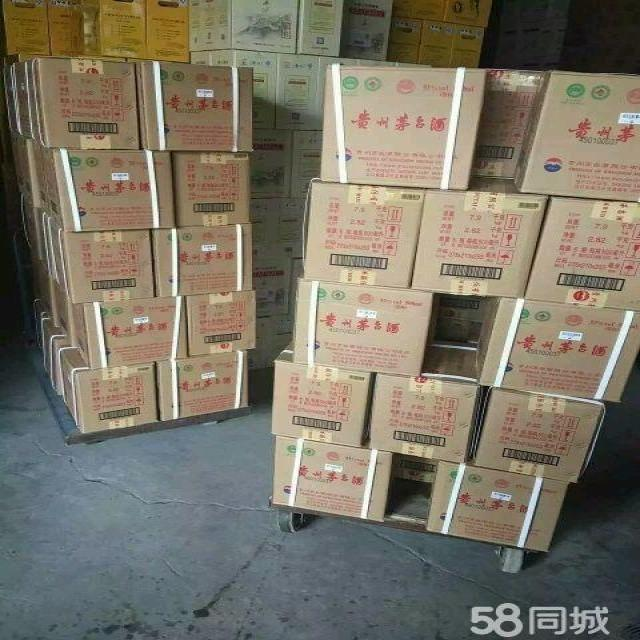box: (321, 64, 488, 190), (476, 296, 640, 403), (411, 176, 549, 299), (512, 71, 640, 202), (293, 274, 441, 376), (425, 449, 569, 552), (368, 341, 483, 464), (303, 180, 425, 289), (527, 196, 640, 311), (473, 386, 605, 484), (33, 142, 175, 233), (13, 58, 139, 149), (271, 340, 376, 446), (133, 61, 253, 153), (37, 209, 153, 304), (273, 435, 395, 522), (57, 343, 157, 433), (73, 296, 188, 370), (472, 69, 545, 179), (152, 225, 255, 297), (156, 350, 249, 421), (169, 152, 251, 226), (189, 0, 300, 53), (209, 49, 277, 128), (185, 291, 256, 356), (81, 0, 147, 59), (275, 52, 320, 130), (341, 0, 393, 60), (249, 128, 293, 197), (436, 293, 491, 344), (297, 0, 344, 57), (1, 0, 49, 55), (147, 0, 189, 62), (252, 259, 293, 316), (11, 133, 39, 209), (41, 316, 67, 396), (47, 0, 85, 54), (292, 131, 321, 198), (33, 262, 59, 328), (420, 20, 455, 66), (388, 16, 421, 64), (449, 24, 484, 69), (264, 313, 292, 367), (392, 453, 437, 484), (0, 65, 20, 134), (251, 197, 280, 243), (444, 0, 493, 27), (55, 283, 73, 347), (280, 196, 305, 242), (393, 0, 445, 21), (247, 316, 265, 370), (189, 52, 211, 65)
